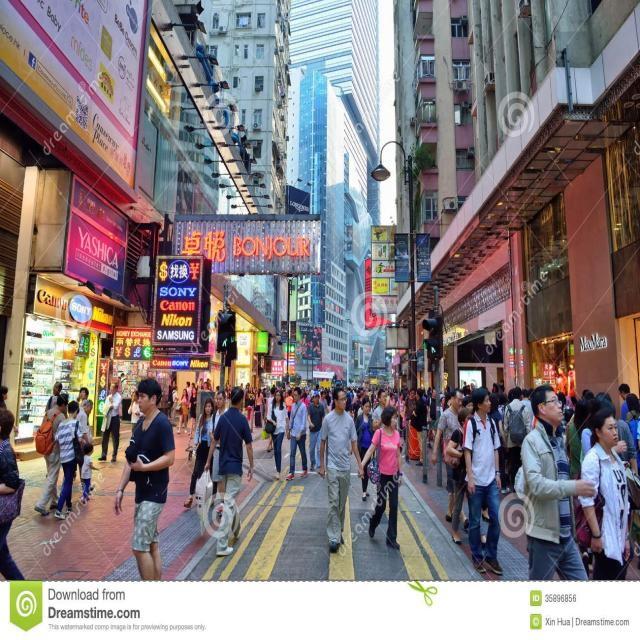body: (167, 360, 640, 460), (520, 384, 596, 581), (112, 377, 176, 607), (578, 406, 630, 580), (203, 384, 254, 556), (461, 386, 503, 575), (318, 385, 364, 551), (356, 404, 404, 550), (443, 406, 488, 547), (430, 386, 470, 529), (0, 407, 26, 582), (34, 392, 70, 517), (182, 397, 219, 508), (54, 399, 85, 520), (502, 386, 530, 493), (208, 389, 230, 517), (265, 389, 291, 479), (565, 398, 592, 482), (284, 386, 308, 480), (354, 397, 374, 502), (97, 381, 122, 462), (75, 398, 96, 493), (307, 390, 326, 474), (79, 441, 100, 504), (625, 393, 640, 477), (411, 388, 426, 466), (44, 381, 68, 420), (263, 386, 277, 452), (0, 385, 19, 433), (618, 383, 640, 422), (174, 388, 190, 434), (128, 390, 144, 435), (371, 389, 387, 432), (426, 388, 437, 450), (298, 326, 320, 357), (402, 387, 418, 425), (395, 390, 406, 438), (188, 387, 198, 437), (181, 380, 191, 426), (170, 384, 180, 427), (255, 387, 265, 421), (318, 390, 330, 417), (285, 389, 295, 421), (118, 369, 128, 398), (76, 386, 89, 408), (461, 395, 475, 415), (386, 392, 396, 410), (301, 392, 309, 412), (248, 386, 255, 401)
